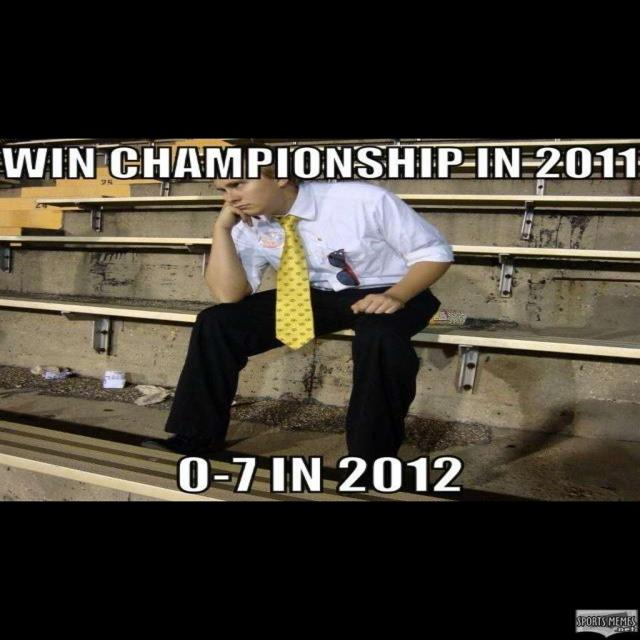nomask: (208, 158, 273, 218)
